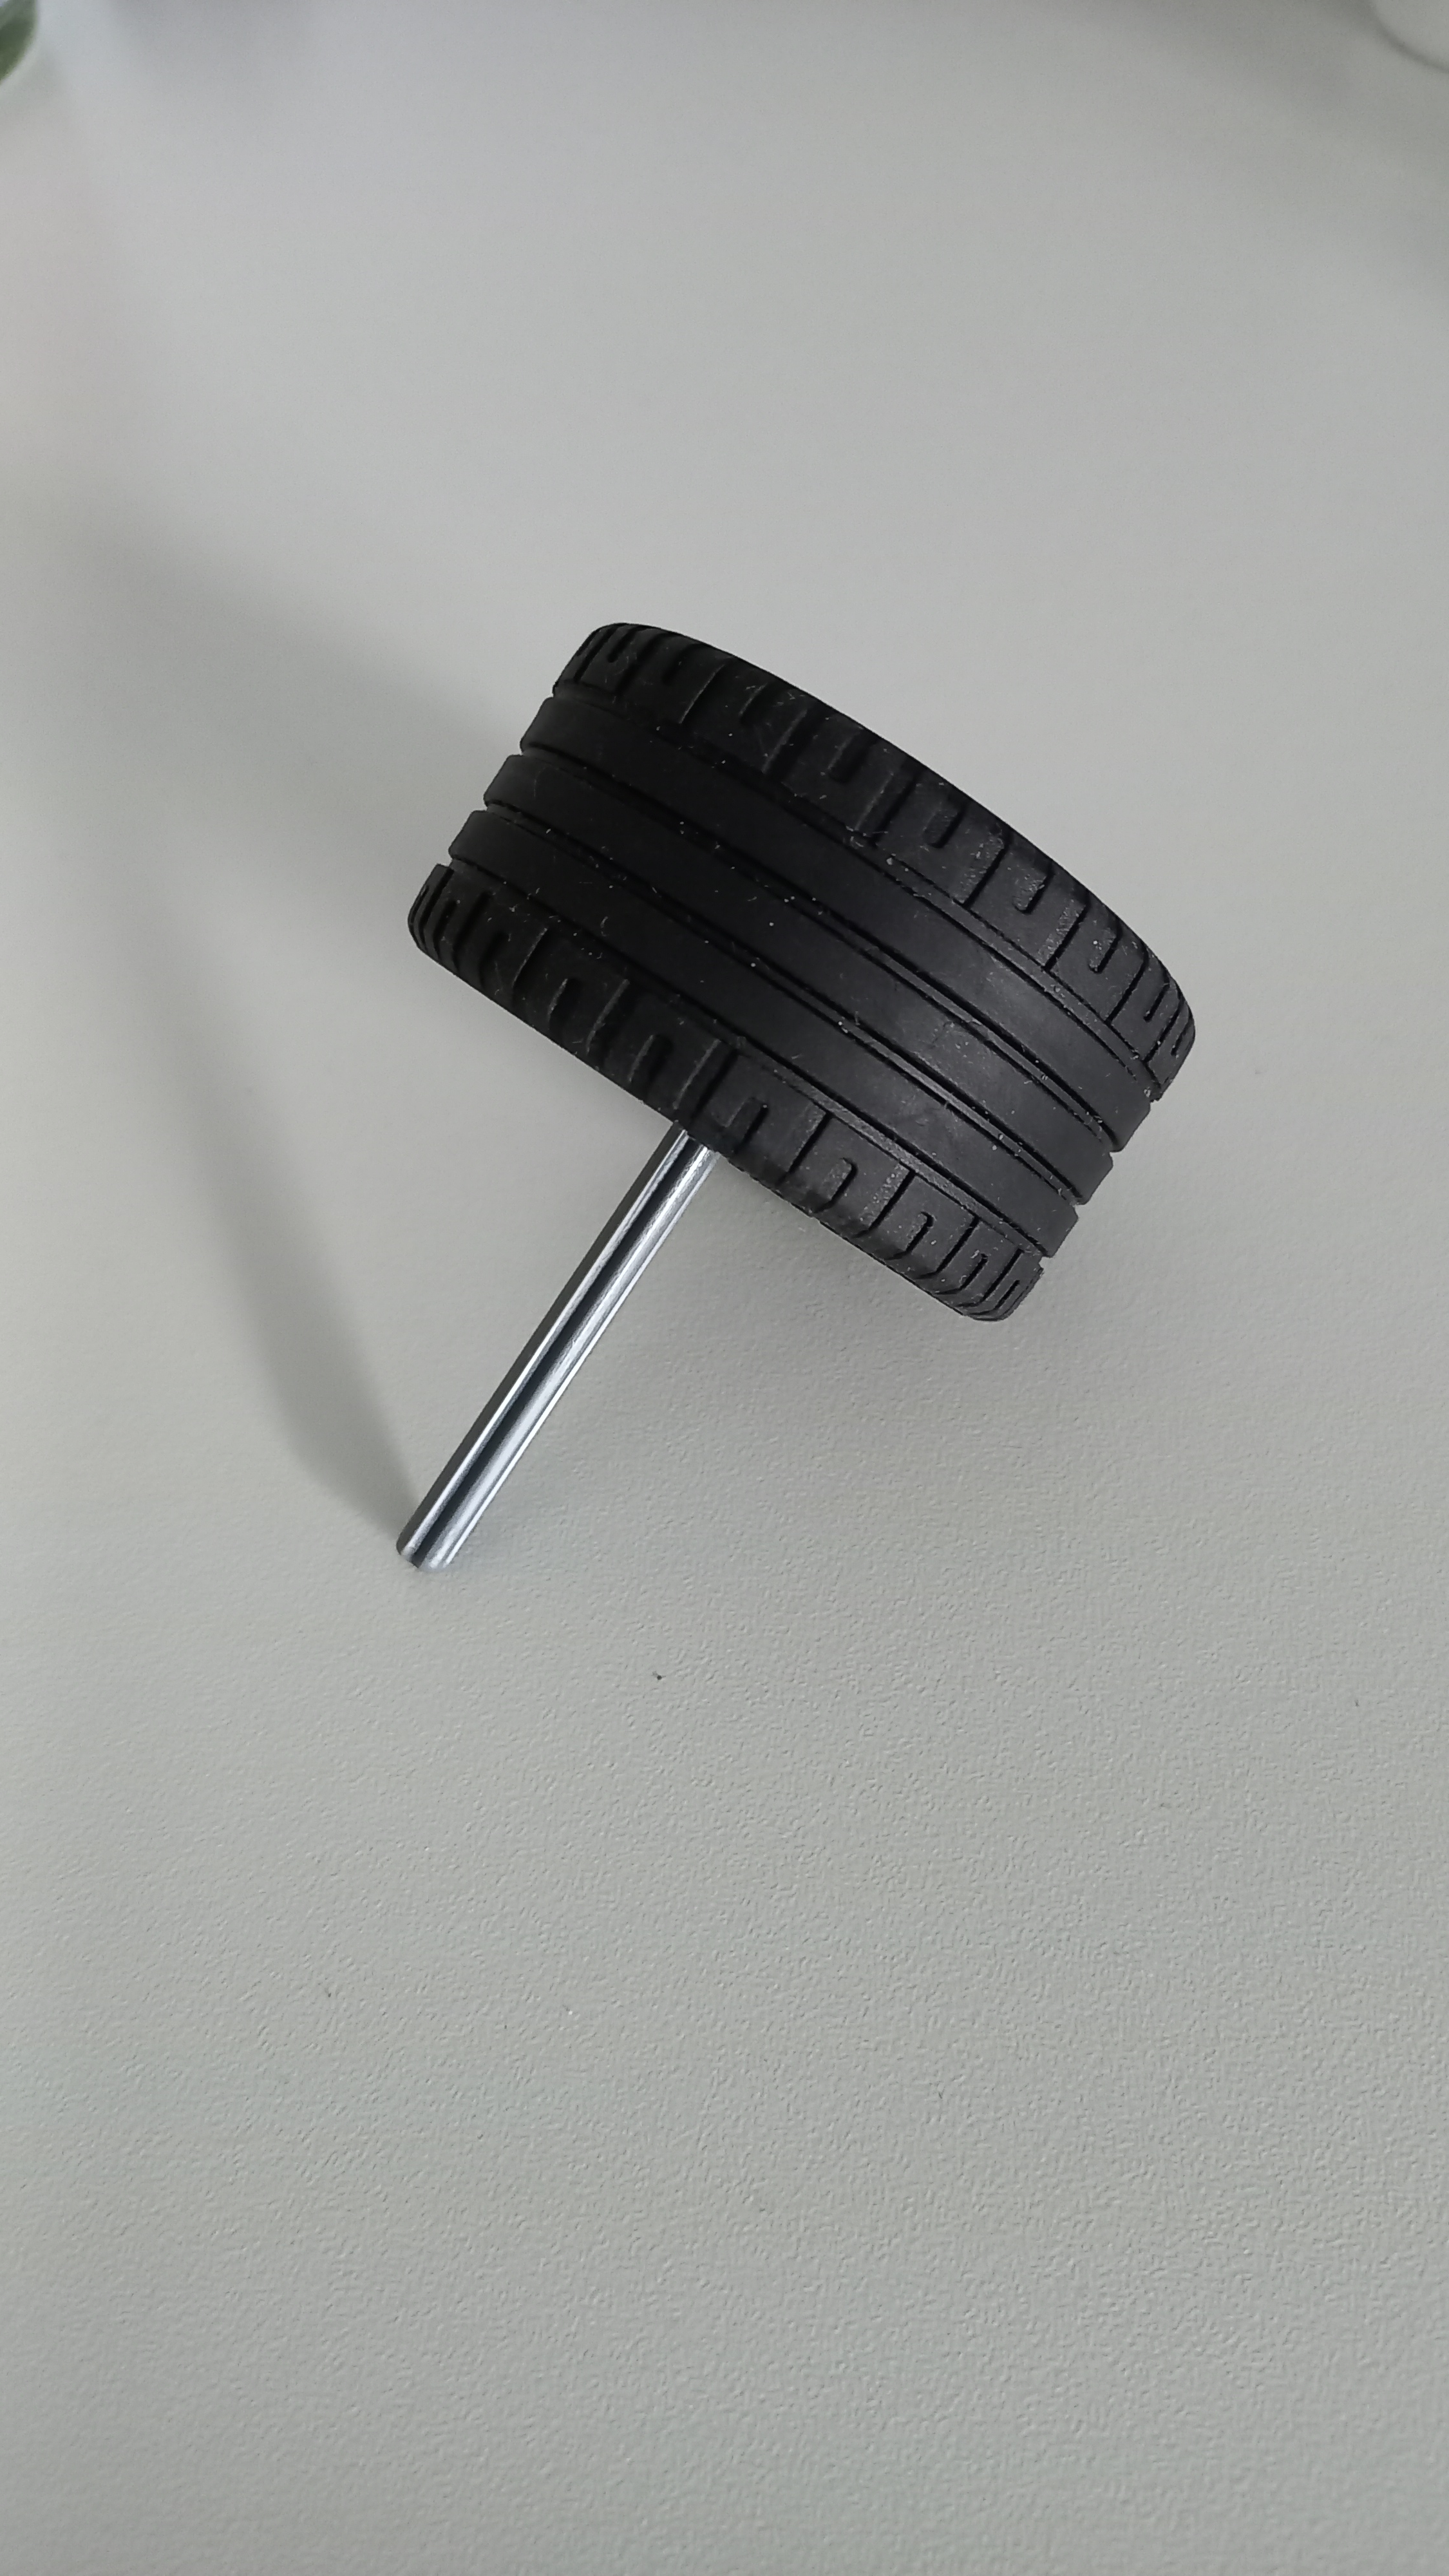Rad+Grau_lang: (363, 602, 1217, 1615)
